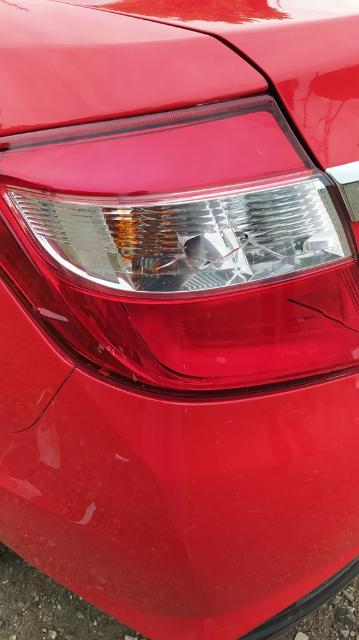lamp broken: (0, 92, 359, 399)
